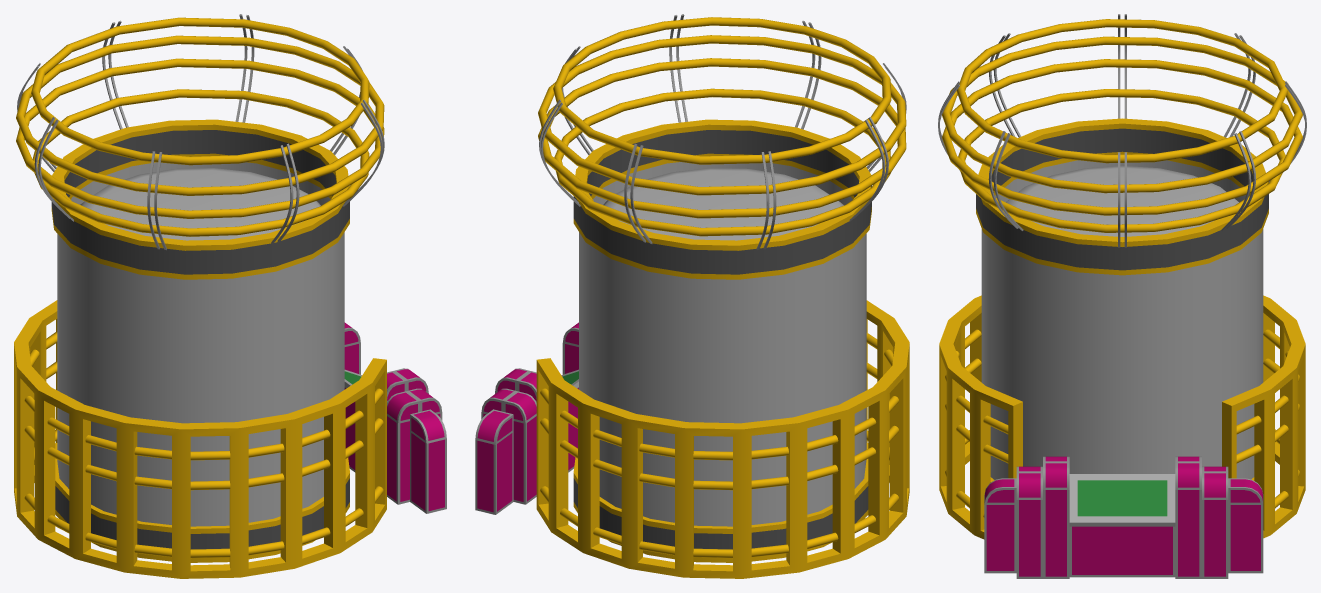
File: Shard_Tank.fbx
The picture shows the model from 3 angles, left to right: view 1: azimuth 30°, elevation 25°; view 2: azimuth 150°, elevation 25°; view 3: azimuth 270°, elevation 25°; orthographic projection. The views are drawn at different scales.
Visible parts, largest first — view 1: Shard_Tank2, Juice; view 2: Shard_Tank2, Juice; view 3: Shard_Tank2, Juice.
Boxes of the visible parts, left/top/right/bottom form: Shard_Tank2: left=14, top=14, right=446, bottom=578; Juice: left=80, top=168, right=320, bottom=240; Shard_Tank2: left=475, top=14, right=909, bottom=578; Juice: left=603, top=168, right=843, bottom=240; Shard_Tank2: left=938, top=14, right=1306, bottom=578; Juice: left=1006, top=165, right=1238, bottom=236.
Size of the model in its own units: 4.94 by 5.58 by 4.58.
